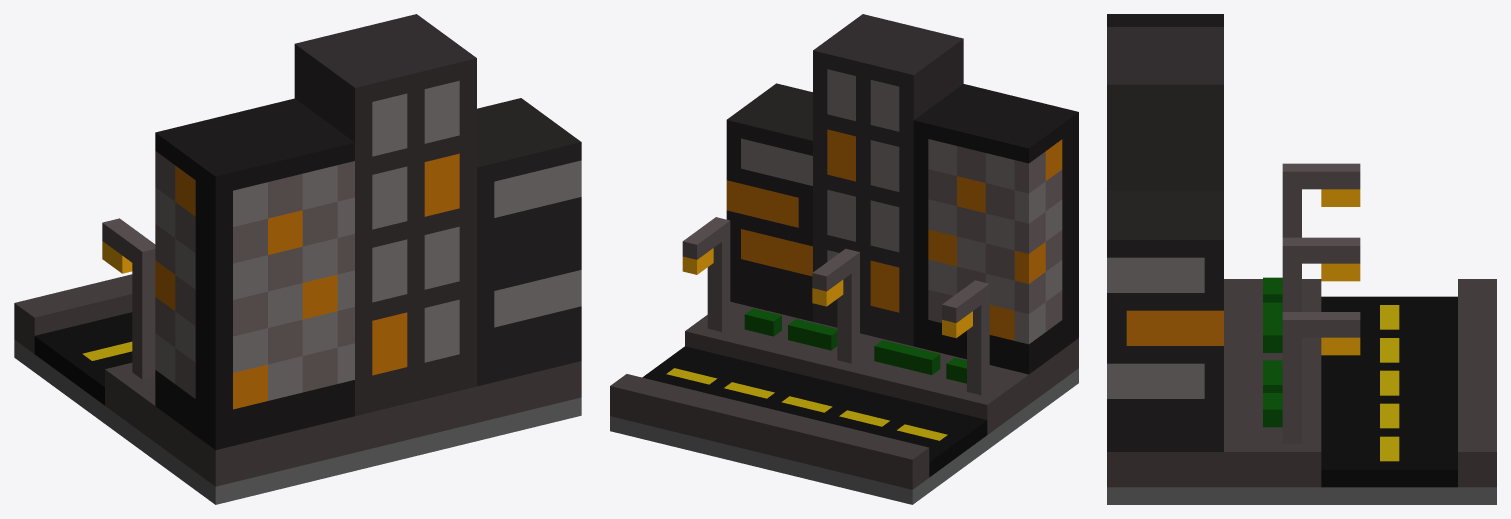
The model's file is Street.fbx.
3 views of the same model, side by side, from view 1: azimuth 30°, elevation 25°; view 2: azimuth 150°, elevation 25°; view 3: azimuth 270°, elevation 25° (orthographic). The views are drawn at different scales.
Visible parts, largest first — view 1: Untitled; view 2: Untitled; view 3: Untitled.
Boxes of the visible parts, x1,y1,x2,y2 form: Untitled: (14, 14, 581, 504); Untitled: (610, 14, 1078, 504); Untitled: (1107, 14, 1496, 504).
Size of the model in its own units: 573 by 573 by 546.
